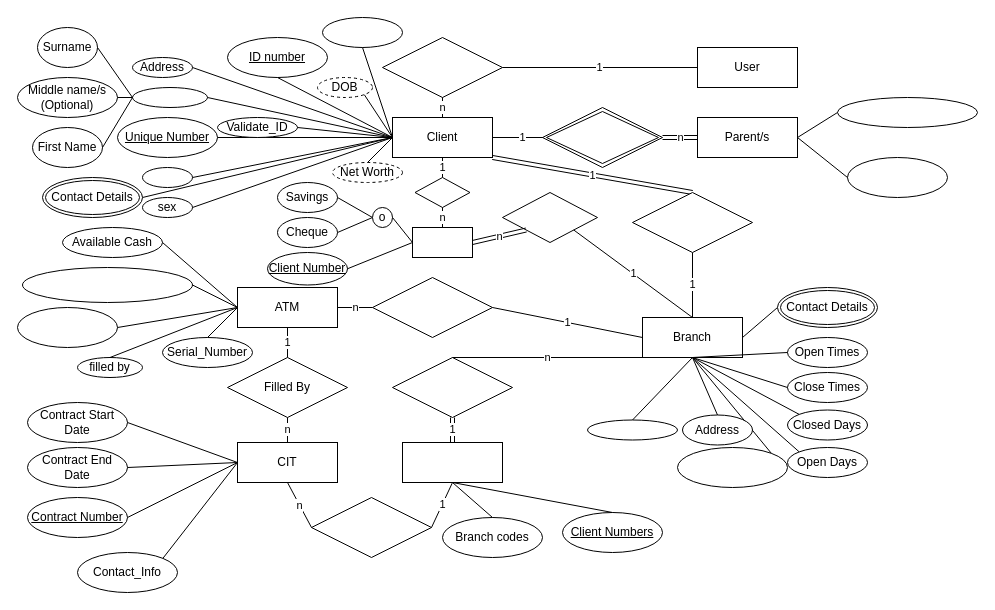
Image size: 995x610. Some labels were removed from this diagram. Each missing label, with the box of its shape:
Account: (412, 226, 472, 258)
Administers: (372, 276, 492, 338)
Age: (142, 166, 192, 188)
Branch code: (16, 306, 118, 348)
Branch_Name: (586, 419, 678, 440)
Captures data for: (382, 36, 502, 98)
Childs_uique_number: (836, 96, 978, 128)
Contracts: (310, 496, 432, 558)
Date and time of last filling: (22, 266, 192, 302)
Dependents of: (542, 106, 662, 168)
FNB: (402, 442, 502, 482)
Full_Name: (132, 86, 208, 108)
Has: (414, 176, 470, 208)
Manages: (502, 192, 598, 242)
Parent_Name: (846, 156, 948, 198)
Provided by: (392, 356, 512, 418)
Registers at: (632, 192, 752, 252)
Transactions: (322, 16, 402, 48)
Unique Branch Code: (676, 446, 788, 488)
